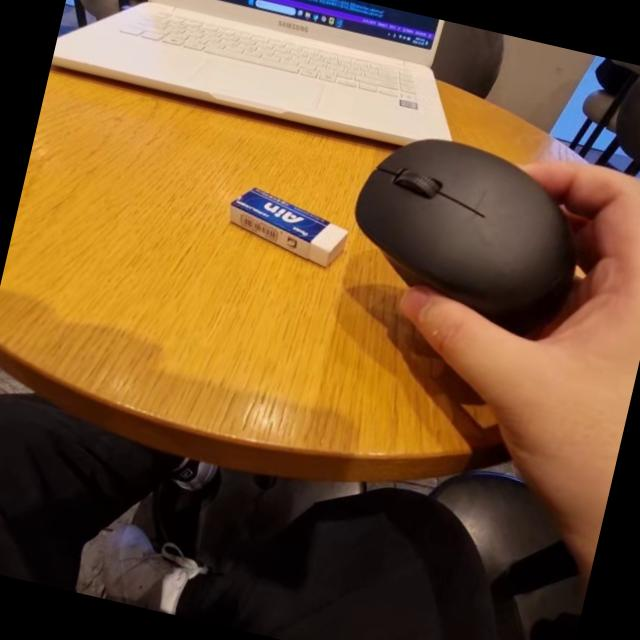eraser: (208, 182, 366, 289)
grab_mouse: (313, 114, 640, 484)
hand: (466, 137, 640, 487)
mouse: (330, 106, 604, 336)
